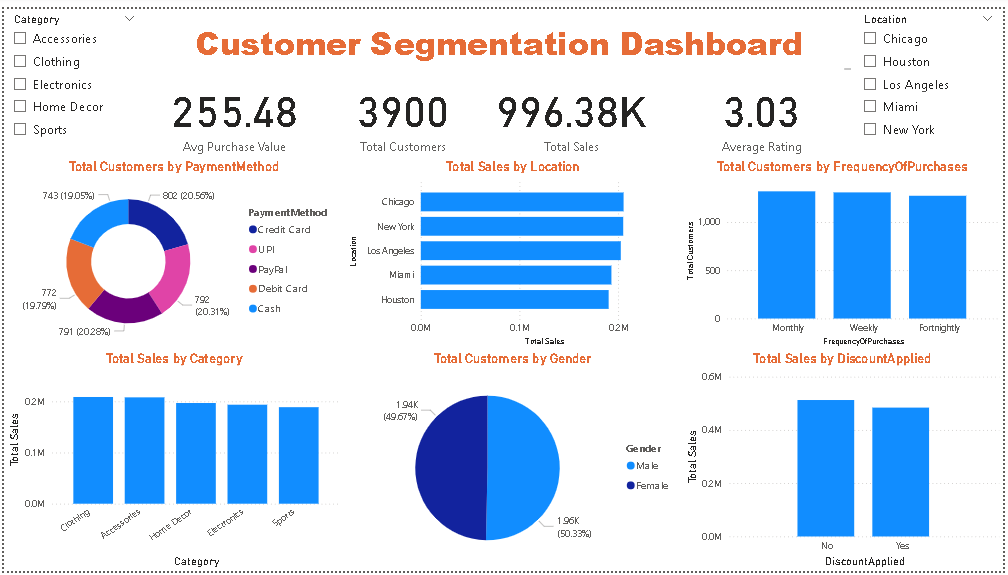

This screenshot's page, from the dashboard's own definition file:
{"tool":"powerbi","page":{"name":"Page 1","canvas":[1280,720],"ordinal":0},"visuals":[{"type":"card","fields":{"Values":["Shopping_Trend_Dataset.Total Sales"]},"box":[613.2,82,228.3,109.8],"z":0},{"type":"card","fields":{"Values":["Shopping_Trend_Dataset.Total Customers"]},"box":[409.8,82,203.4,109.8],"z":1},{"type":"card","fields":{"Values":["Shopping_Trend_Dataset.Avg Purchase Value"]},"box":[180,82,229.8,109.8],"z":2},{"type":"card","fields":{"Values":["Shopping_Trend_Dataset.Average Rating"]},"box":[851.7,82,238.5,109.8],"z":3},{"type":"clusteredColumnChart","fields":{"Category":["Shopping_Trend_Dataset.Category"],"Y":["Shopping_Trend_Dataset.Total Sales"]},"box":[0,437.6,436.1,282.5],"z":4},{"type":"pieChart","fields":{"Y":["Shopping_Trend_Dataset.Total Customers"],"Category":["Shopping_Trend_Dataset.Gender"]},"box":[436.1,437.6,431.7,282.5],"z":5},{"type":"clusteredBarChart","fields":{"Category":["Shopping_Trend_Dataset.Location"],"Y":["Shopping_Trend_Dataset.Total Sales"]},"box":[436.1,191.7,431.7,245.9],"z":6},{"type":"columnChart","fields":{"Category":["Shopping_Trend_Dataset.FrequencyOfPurchases"],"Y":["Shopping_Trend_Dataset.Total Customers"]},"box":[867.8,191.7,412.7,245.9],"z":7},{"type":"columnChart","fields":{"Category":["Shopping_Trend_Dataset.DiscountApplied"],"Y":["Shopping_Trend_Dataset.Total Sales"]},"box":[867.8,437.6,412.7,282.5],"z":8},{"type":"donutChart","fields":{"Category":["Shopping_Trend_Dataset.PaymentMethod"],"Y":["Shopping_Trend_Dataset.Total Customers"]},"box":[0,191.7,436.1,245.9],"z":9},{"type":"slicer","fields":{"Values":["Shopping_Trend_Dataset.Category"]},"box":[0,0,180,191.7],"z":11},{"type":"slicer","fields":{"Values":["Shopping_Trend_Dataset.Location"]},"box":[1090.3,0,190.3,191.7],"z":12},{"type":"textbox","title":"Customer Segmentation Dashboard","box":[180,14.6,910.3,67.3],"z":13}]}

Visuals, with their boxes in screenshot pixels (x1, y1, x2, y2), scaled from the page's 1280x720 canvas onto the 1008x575 screenshot:
card - Shopping_Trend_Dataset.Total Sales: crop(483, 65, 663, 153)
card - Shopping_Trend_Dataset.Total Customers: crop(323, 65, 483, 153)
card - Shopping_Trend_Dataset.Avg Purchase Value: crop(142, 65, 323, 153)
card - Shopping_Trend_Dataset.Average Rating: crop(671, 65, 859, 153)
clusteredColumnChart - Shopping_Trend_Dataset.Category x Shopping_Trend_Dataset.Total Sales: crop(0, 349, 343, 574)
pieChart - Shopping_Trend_Dataset.Total Customers x Shopping_Trend_Dataset.Gender: crop(343, 349, 683, 574)
clusteredBarChart - Shopping_Trend_Dataset.Location x Shopping_Trend_Dataset.Total Sales: crop(343, 153, 683, 349)
columnChart - Shopping_Trend_Dataset.FrequencyOfPurchases x Shopping_Trend_Dataset.Total Customers: crop(683, 153, 1007, 349)
columnChart - Shopping_Trend_Dataset.DiscountApplied x Shopping_Trend_Dataset.Total Sales: crop(683, 349, 1007, 574)
donutChart - Shopping_Trend_Dataset.PaymentMethod x Shopping_Trend_Dataset.Total Customers: crop(0, 153, 343, 349)
slicer - Shopping_Trend_Dataset.Category: crop(0, 0, 142, 153)
slicer - Shopping_Trend_Dataset.Location: crop(859, 0, 1007, 153)
"Customer Segmentation Dashboard" textbox: crop(142, 12, 859, 65)
